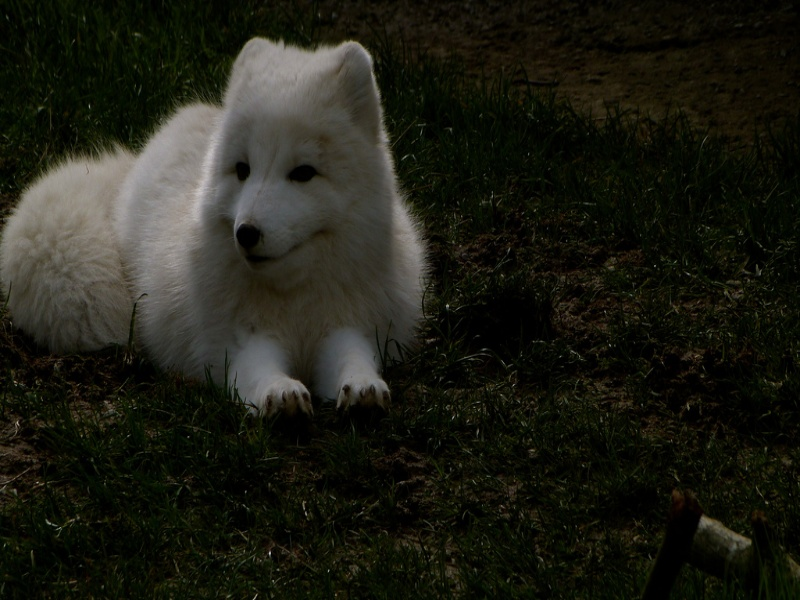fox: (18, 21, 446, 428)
